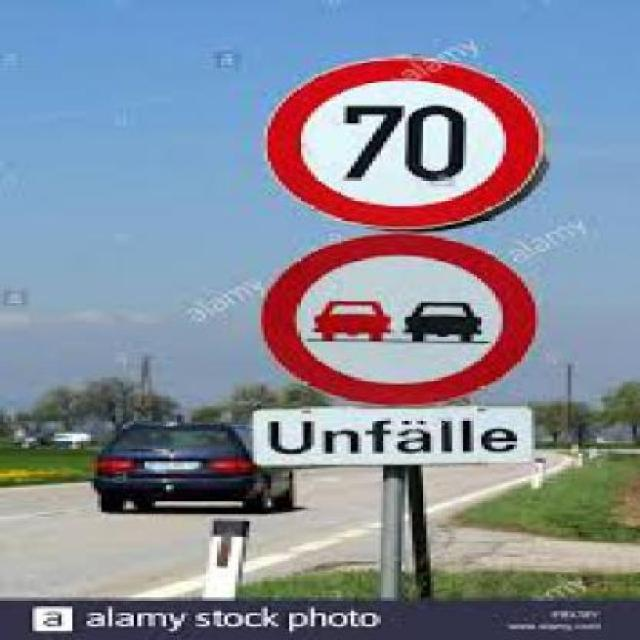forb_speed_over_70: (270, 59, 547, 224)
